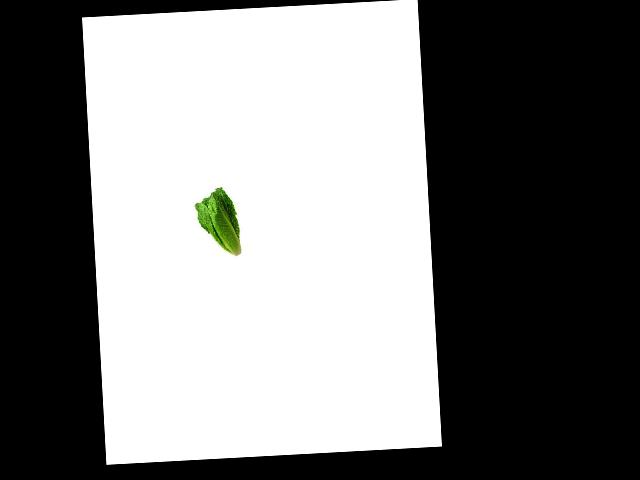lettuce: (193, 186, 242, 264)
